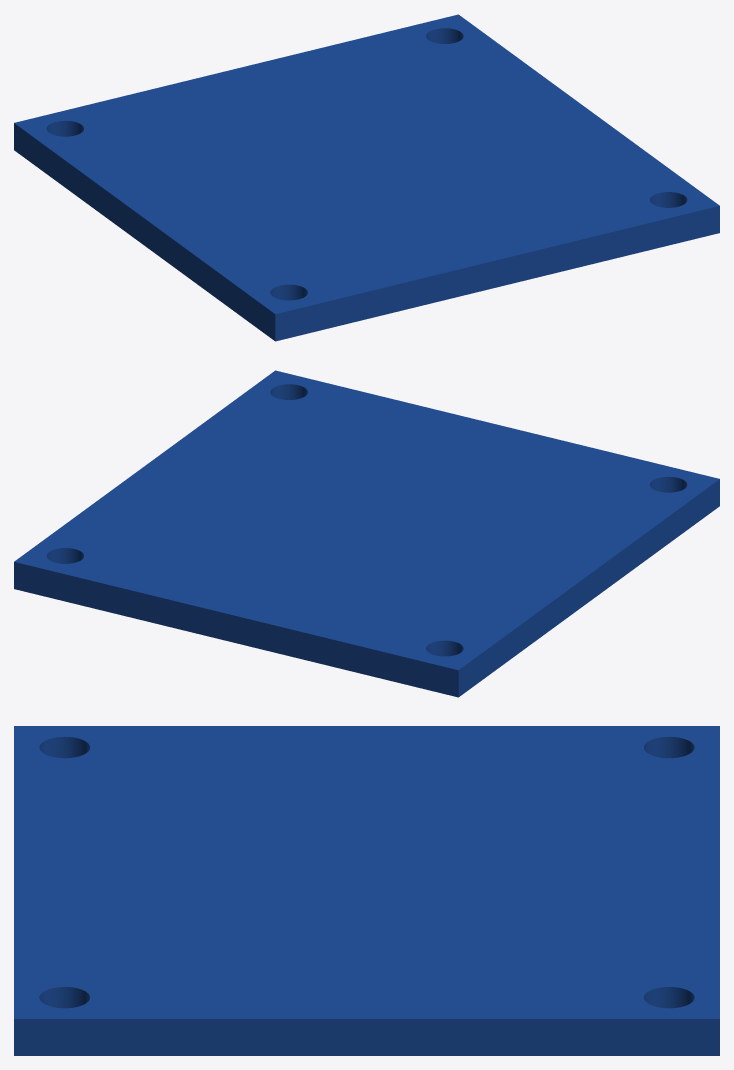
Rendered from oled-ssd1306-128x64.glb.
3 views of the same model, one above another, from view 1: azimuth 30°, elevation 25°; view 2: azimuth 150°, elevation 25°; view 3: azimuth 270°, elevation 25° (orthographic). The views are drawn at different scales.
Bounding box in the file's own units: 0.0273 × 0.0016 × 0.0278.
